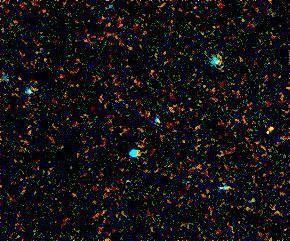star: (257, 117, 287, 147)
